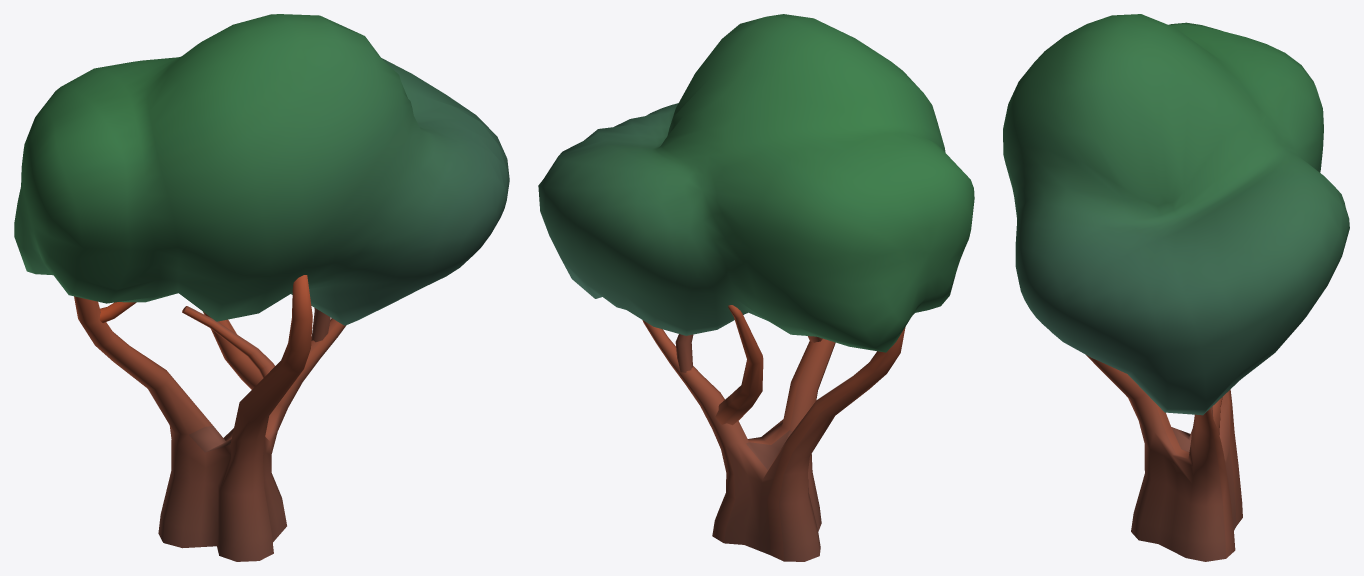
File: Big_Tree_01.fbx
The picture shows the model from 3 angles, left to right: view 1: azimuth 30°, elevation 25°; view 2: azimuth 150°, elevation 25°; view 3: azimuth 270°, elevation 25°; orthographic projection. The views are drawn at different scales.
Parts seen in each view (by area): view 1: Big_Tree_01; view 2: Big_Tree_01; view 3: Big_Tree_01.
Boxes of the visible parts, x1,y1,x2,y2 form: Big_Tree_01: [14, 14, 509, 561]; Big_Tree_01: [538, 14, 974, 561]; Big_Tree_01: [1003, 14, 1349, 561].
Bounding box in the file's own units: 671 × 765 × 468.
